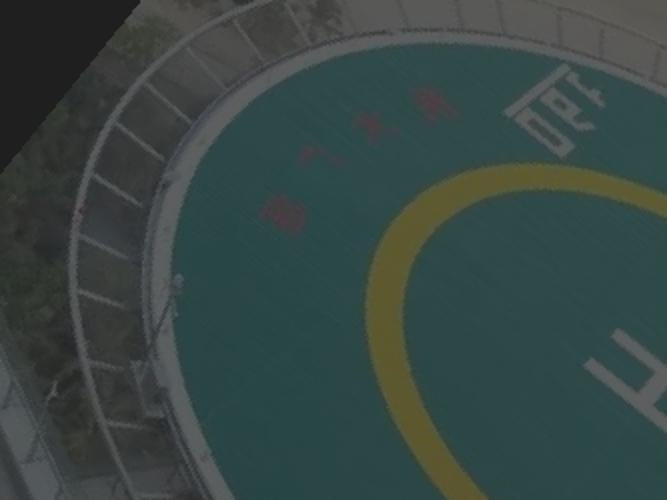Apron: (362, 157, 666, 498)
